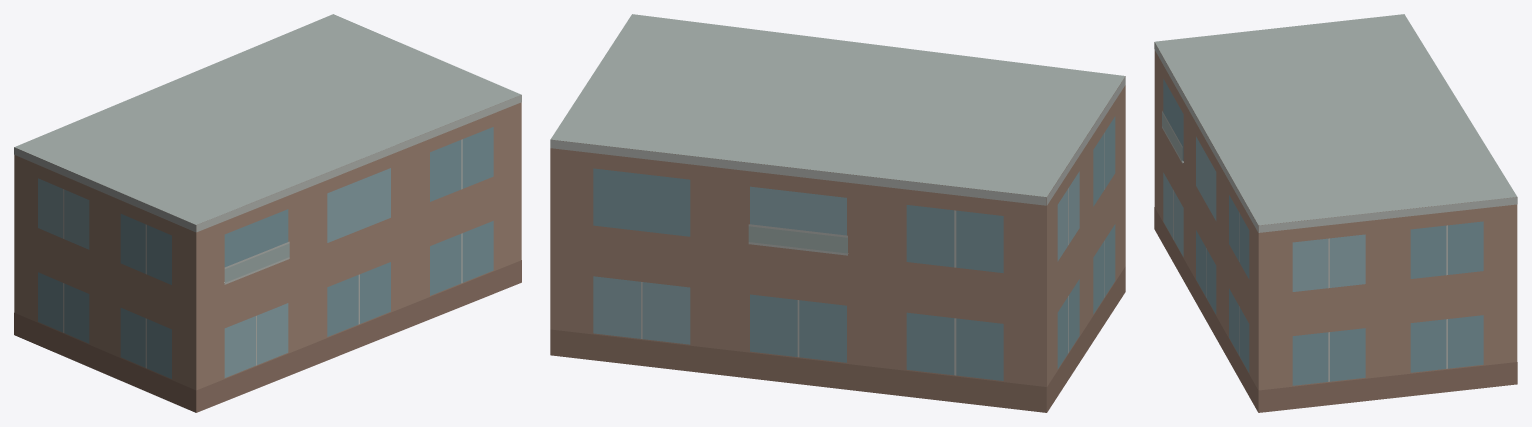
Rendered from survey-upis-32784024.glb.
3 views of the same model, side by side, from view 1: azimuth 30°, elevation 25°; view 2: azimuth 150°, elevation 25°; view 3: azimuth 270°, elevation 25° (orthographic). The views are drawn at different scales.
Parts seen in each view (by area): view 1: survey-upis-32784024.tmp; view 2: survey-upis-32784024.tmp; view 3: survey-upis-32784024.tmp.
Boxes of the visible parts, left/top/right/bottom form: survey-upis-32784024.tmp: left=14, top=14, right=521, bottom=412; survey-upis-32784024.tmp: left=550, top=14, right=1125, bottom=412; survey-upis-32784024.tmp: left=1154, top=14, right=1517, bottom=412.
Size of the model in its own units: 14.77 by 6.1 by 10.72.
